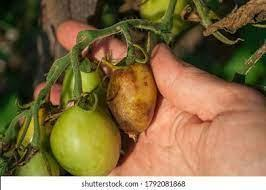tomato late blight: (107, 64, 161, 141)
